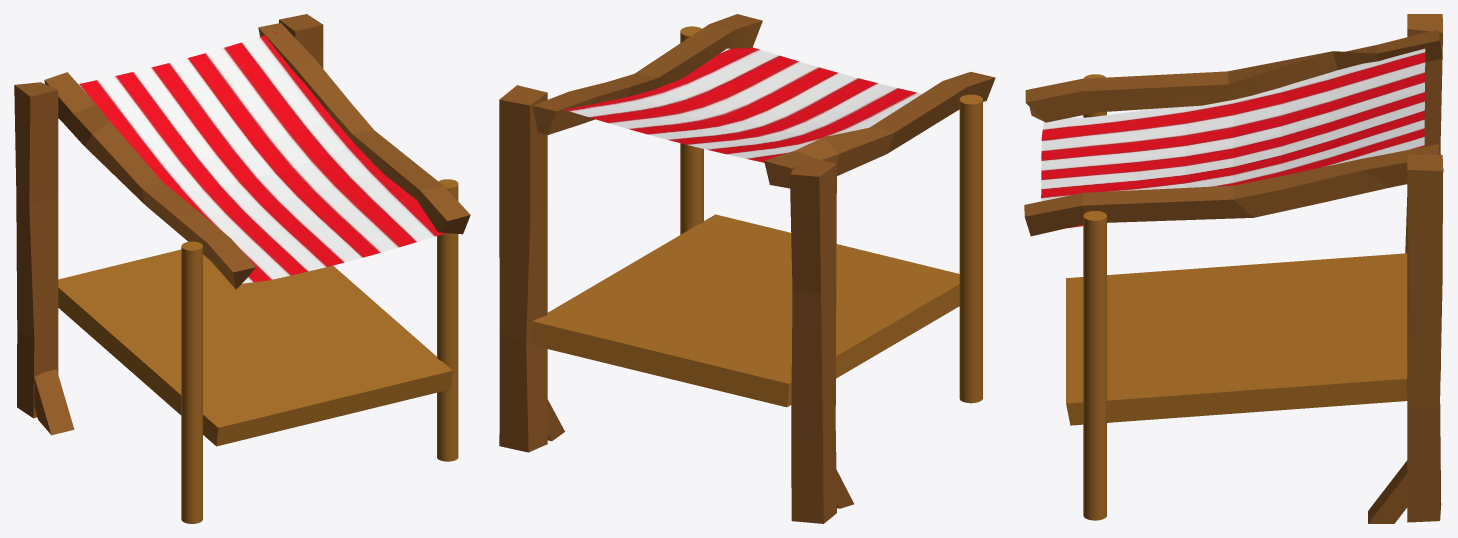
Rendered from tenant.fbx.
The picture shows the model from 3 angles, left to right: view 1: azimuth 30°, elevation 25°; view 2: azimuth 150°, elevation 25°; view 3: azimuth 270°, elevation 25°; orthographic projection. The views are drawn at different scales.
Parts seen in each view (by area): view 1: tenant; view 2: tenant; view 3: tenant.
Boxes of the visible parts, <box> form: tenant: <box>14,14,470,523</box>; tenant: <box>499,14,995,523</box>; tenant: <box>1024,14,1443,523</box>.
Size of the model in its own units: 2104 by 2230 by 2365.
